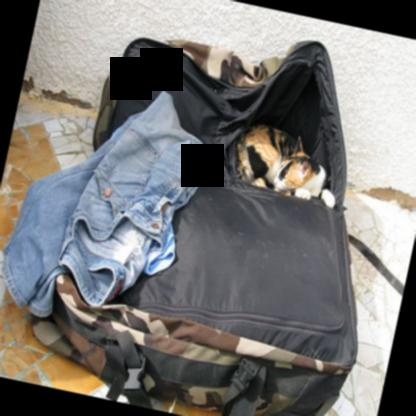backpack: (31, 32, 359, 416)
suitcase: (30, 37, 404, 416)
